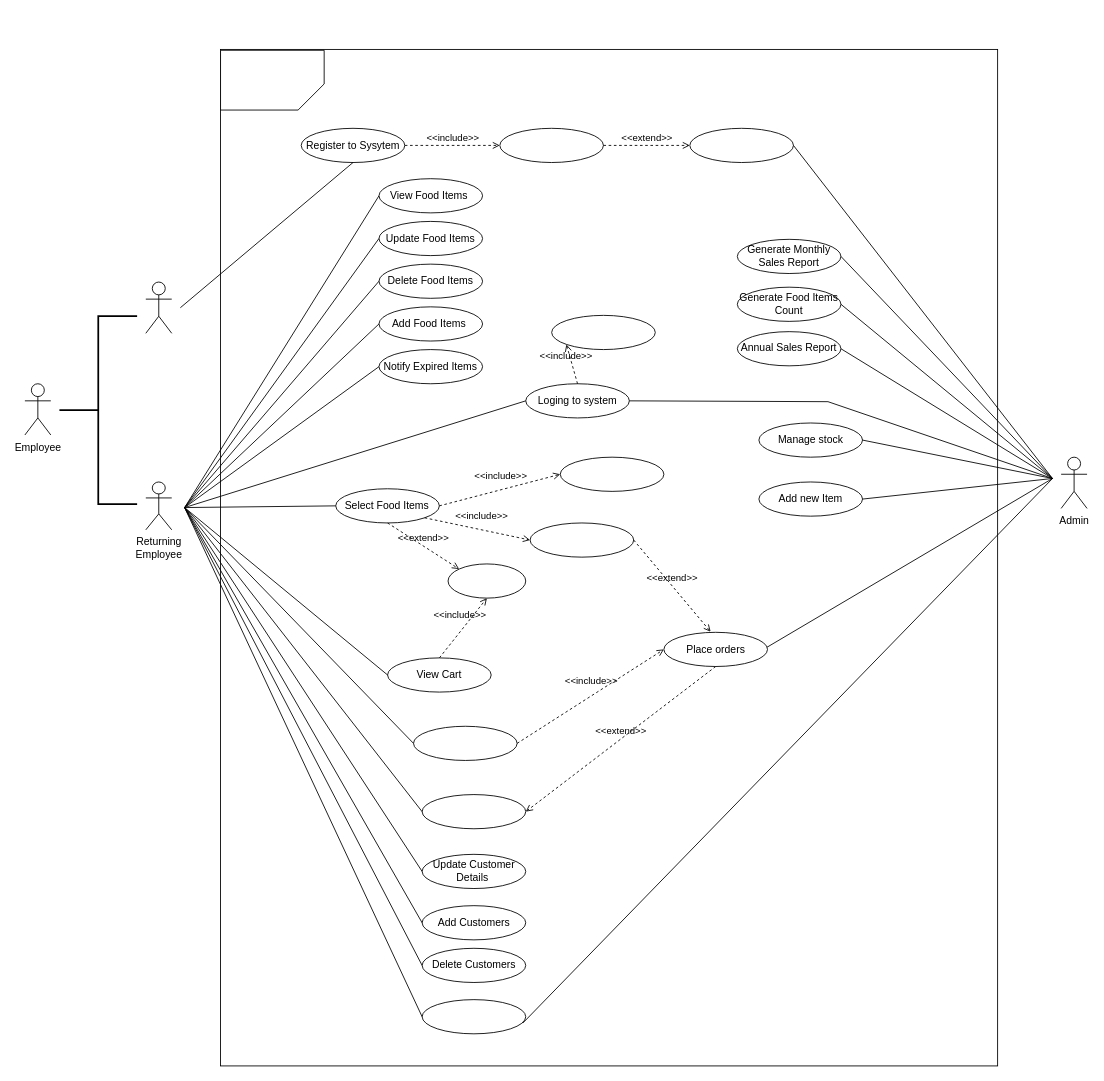
The diagram is 1104 pixels wide and 1081 high, and some of its shapes have lost their labels. Here are the shapes that lost their labels. From the top down, the centre of each, then its label:
At point (272, 79): "POS System".
At point (551, 145): "Add Employees".
At point (741, 145): "Manage Employees".
At point (158, 307): "New Employee".
At point (603, 332): "Authentication".
At point (611, 473): "Item in stock".
At point (581, 539): "Has Discount".
At point (486, 580): "Get selected products".
At point (465, 742): "View orders".
At point (473, 811): "Generate Receipt".
At point (473, 1016): "View Ordrers".
